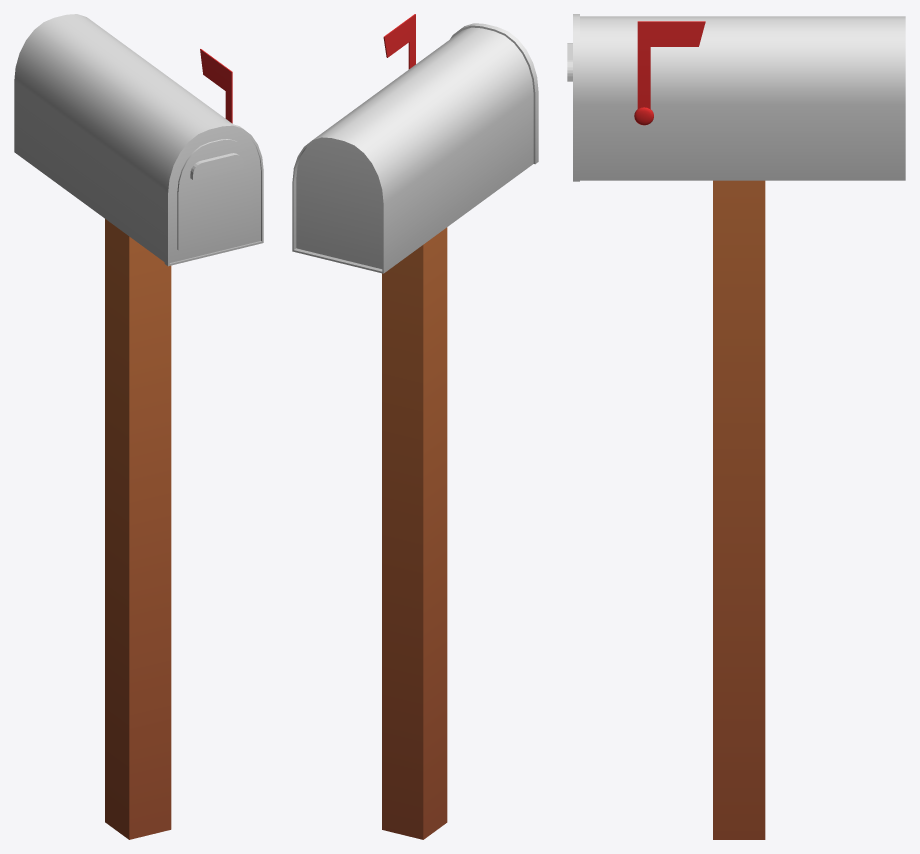
File: mailbox_01_white.glb
The picture shows the model from 3 angles, left to right: view 1: azimuth 30°, elevation 25°; view 2: azimuth 150°, elevation 25°; view 3: azimuth 270°, elevation 25°; orthographic projection. The views are drawn at different scales.
Parts seen in each view (by area): view 1: mailbox_01_white, mailbox_01_mail_indicator.001; view 2: mailbox_01_white, mailbox_01_mail_indicator.001; view 3: mailbox_01_white, mailbox_01_mail_indicator.001.
Part boxes in pixels (box(x1,y1,x2,y2)): mailbox_01_white: box(14, 14, 263, 839); mailbox_01_mail_indicator.001: box(200, 49, 232, 123); mailbox_01_white: box(292, 23, 538, 839); mailbox_01_mail_indicator.001: box(383, 14, 415, 69); mailbox_01_white: box(567, 14, 905, 839); mailbox_01_mail_indicator.001: box(634, 21, 705, 125).
Bounding box in the file's own units: 0.1849 × 1.41 × 0.5188.
1 material, 1 textured.
